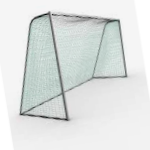goals: (16, 9, 129, 121)
